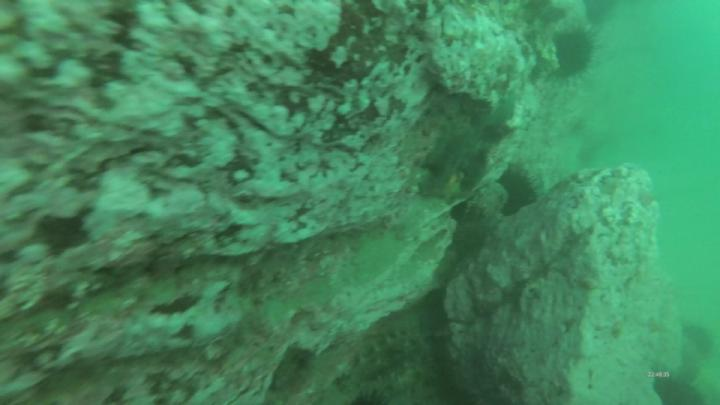echinus: (550, 21, 599, 91), (498, 165, 542, 219), (681, 323, 719, 362), (345, 384, 396, 405)
holothurian: (333, 328, 428, 386)
